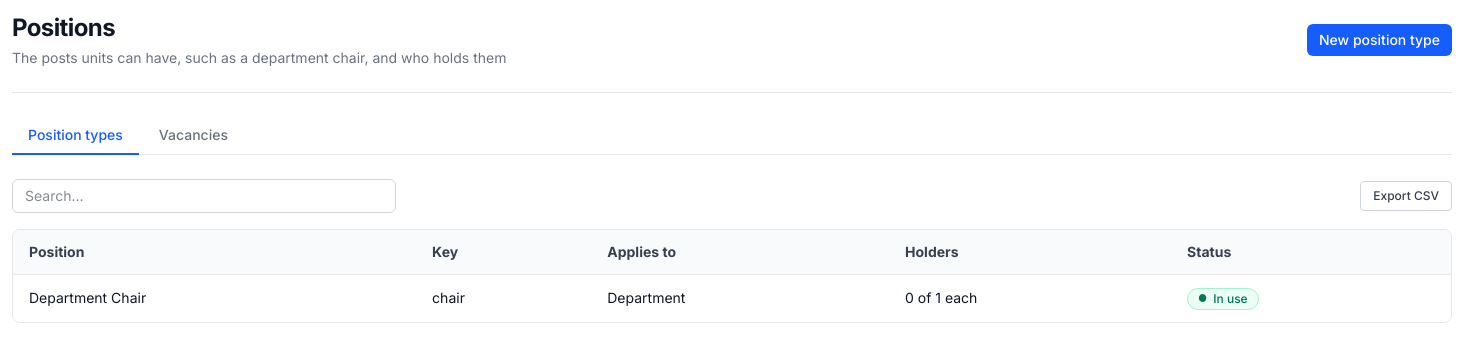
Test: Admin Positions › lists position types and shows vacancies with an Assign action
The width and height of the screenshot is (1464, 343).
Check: the text "Department Chair" is shown, box [13, 274, 416, 322]
Click the tab "Vacancies".
click(193, 136)  # box [143, 117, 244, 155]
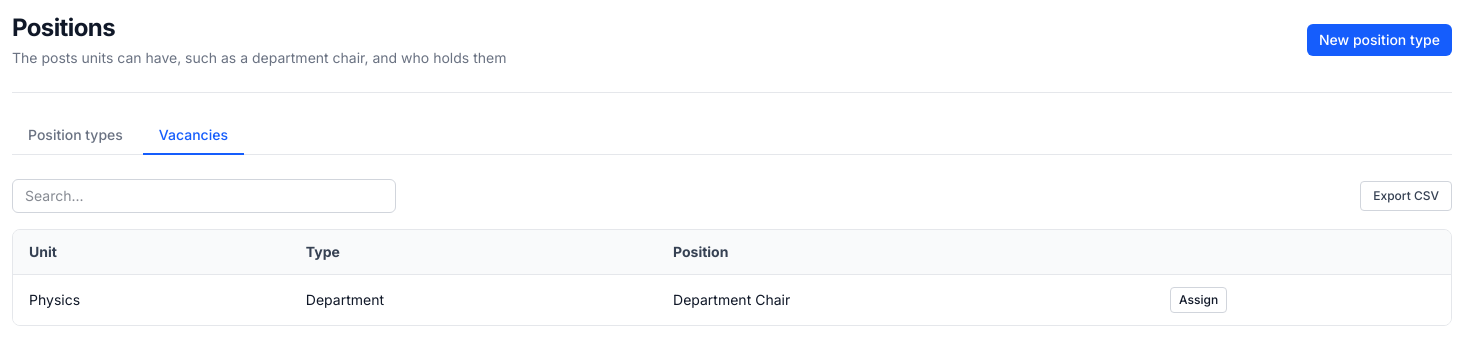
Check: the text "Physics" is shown, box [13, 274, 290, 325]
Check: the button with test id "vacancy-assign-u-1-chair" is shown, box [1170, 287, 1227, 313]
